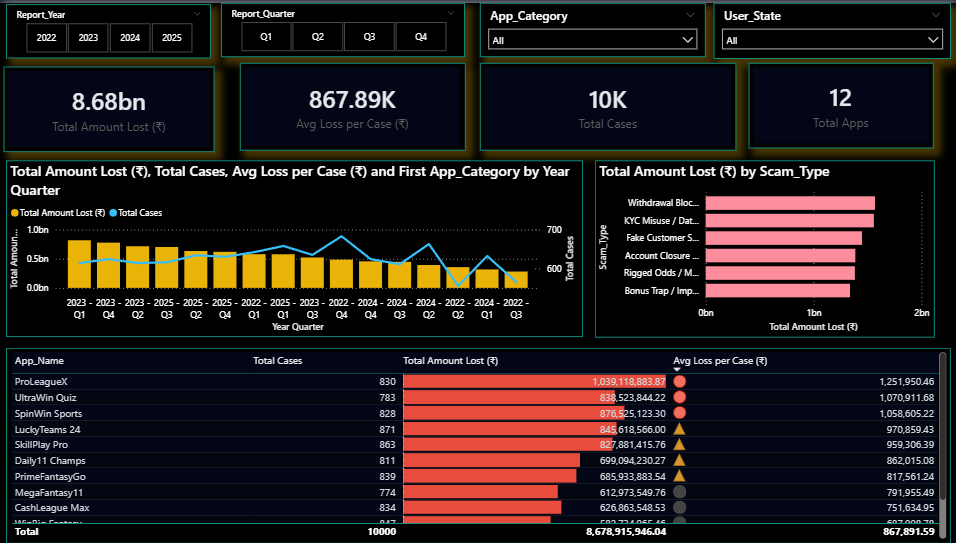

This screenshot's page, from the dashboard's own definition file:
{"tool":"powerbi","page":{"name":"Executive overview","canvas":[1280,720],"ordinal":0},"visuals":[{"type":"slicer","fields":{"Values":["Scam_Facts.Report_Year"]},"box":[8.6,88.6,272.9,71.4],"z":0},{"type":"slicer","fields":{"Values":["Scam_Facts.Report_Quarter"]},"box":[295.7,90,324.3,72.9],"z":1000},{"type":"slicer","fields":{"Values":["Scam_Facts.App_Category"]},"box":[638.6,88.6,300,72.9],"z":2000},{"type":"slicer","fields":{"Values":["Scam_Facts.User_State"]},"box":[962.9,88.6,317.1,74.3],"z":3000},{"type":"cardVisual","fields":{"Data":["Scam_Facts.Total Amount Lost (₹)"]},"box":[28.8,173.8,232.5,95],"z":4000},{"type":"cardVisual","fields":{"Data":["Scam_Facts.Total Cases"]},"box":[638.8,173.8,310,98.8],"z":5000},{"type":"cardVisual","fields":{"Data":["Scam_Facts.Avg Loss per Case (₹)"]},"box":[356.2,173.8,226.2,102.5],"z":6000},{"type":"cardVisual","fields":{"Data":["Scam_Facts.Total Apps"]},"box":[980,175,288.8,101.2],"z":7000},{"type":"lineStackedColumnComboChart","fields":{"Y":["Scam_Facts.Total Amount Lost (₹)"],"Category":["Scam_Facts.Year Quarter"],"Y2":["Scam_Facts.Total Cases"]},"box":[0,286.2,748.8,206.2],"z":8000},{"type":"barChart","fields":{"Category":["Scam_Facts.Scam_Type"],"Y":["Scam_Facts.Total Amount Lost (₹)"]},"box":[762.5,286.2,502.5,222.5],"z":9000},{"type":"tableEx","fields":{"Values":["Scam_Facts.App_Name","Scam_Facts.Total Cases","Scam_Facts.Total Amount Lost (₹)","Scam_Facts.Avg Loss per Case (₹)"]},"box":[8.8,508.8,1258.8,211.2],"z":10000},{"type":"textbox","box":[8.6,0,1260,78.6],"z":11000}]}

Visuals, with their boxes in screenshot pixels (x1, y1, x2, y2), scaled from the page's 1280x720 canvas onto the 956x543 screenshot:
slicer - Scam_Facts.Report_Year: Rect(6, 67, 210, 121)
slicer - Scam_Facts.Report_Quarter: Rect(221, 68, 463, 123)
slicer - Scam_Facts.App_Category: Rect(477, 67, 701, 122)
slicer - Scam_Facts.User_State: Rect(719, 67, 955, 123)
cardVisual - Scam_Facts.Total Amount Lost (₹): Rect(22, 131, 195, 203)
cardVisual - Scam_Facts.Total Cases: Rect(477, 131, 709, 206)
cardVisual - Scam_Facts.Avg Loss per Case (₹): Rect(266, 131, 435, 208)
cardVisual - Scam_Facts.Total Apps: Rect(732, 132, 948, 208)
lineStackedColumnComboChart - Scam_Facts.Total Amount Lost (₹) x Scam_Facts.Year Quarter: Rect(0, 216, 559, 371)
barChart - Scam_Facts.Scam_Type x Scam_Facts.Total Amount Lost (₹): Rect(569, 216, 945, 384)
tableEx - Scam_Facts.App_Name x Scam_Facts.Total Cases: Rect(7, 384, 947, 542)
textbox: Rect(6, 0, 947, 59)
